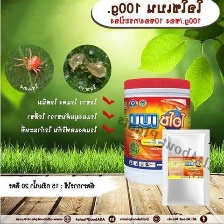insecticide: (121, 76, 195, 186), (159, 125, 216, 208)
